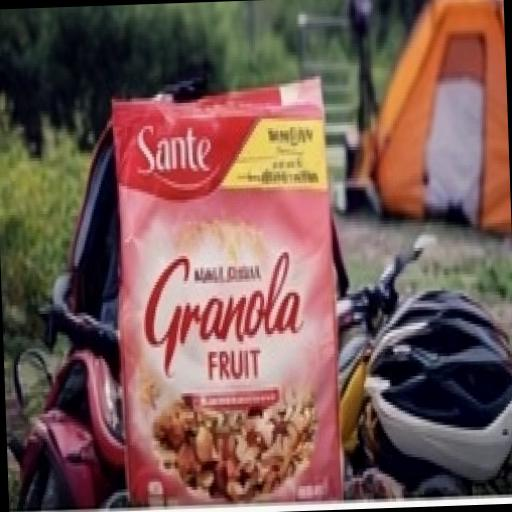granola: (101, 70, 351, 506)
